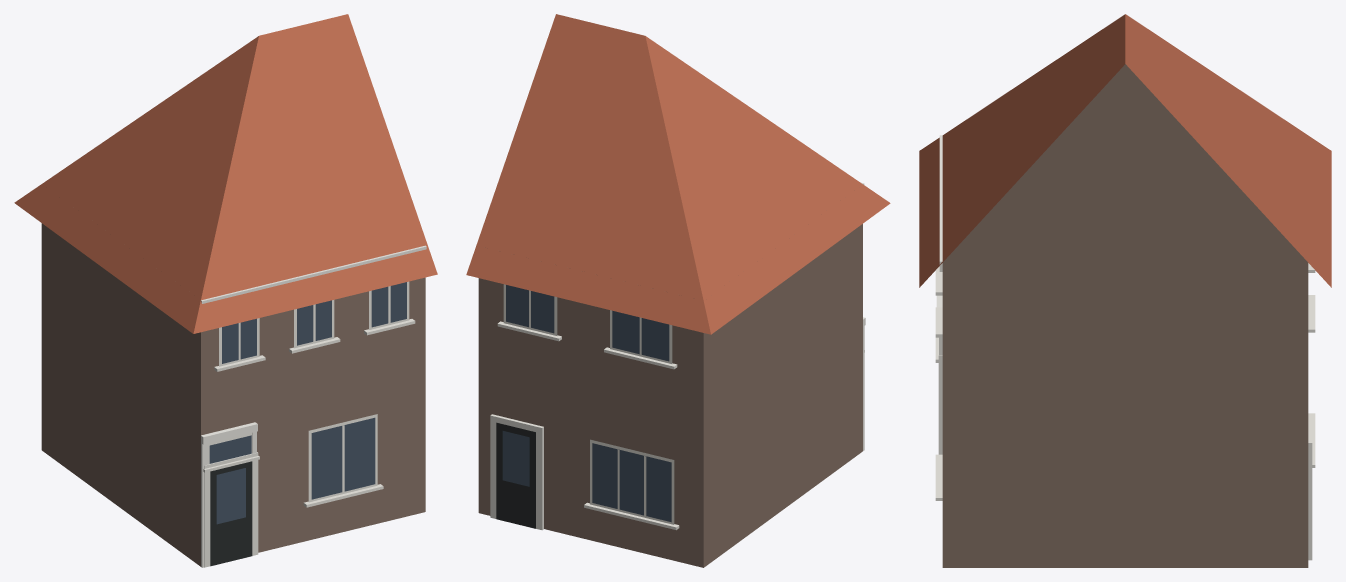
File: nn-row-small__small__2__hip__long__solid__endL.glb
The picture shows the model from 3 angles, left to right: view 1: azimuth 30°, elevation 25°; view 2: azimuth 150°, elevation 25°; view 3: azimuth 270°, elevation 25°; orthographic projection. The views are drawn at different scales.
Parts seen in each view (by area): view 1: nn-row-small__small__2__hip__long__solid__endL; view 2: nn-row-small__small__2__hip__long__solid__endL; view 3: nn-row-small__small__2__hip__long__solid__endL.
Boxes of the visible parts, left/top/right/bottom form: nn-row-small__small__2__hip__long__solid__endL: left=14, top=14, right=437, bottom=567; nn-row-small__small__2__hip__long__solid__endL: left=466, top=14, right=890, bottom=567; nn-row-small__small__2__hip__long__solid__endL: left=919, top=14, right=1331, bottom=567.
Size of the model in its own units: 5.57 by 9.56 by 7.07.
